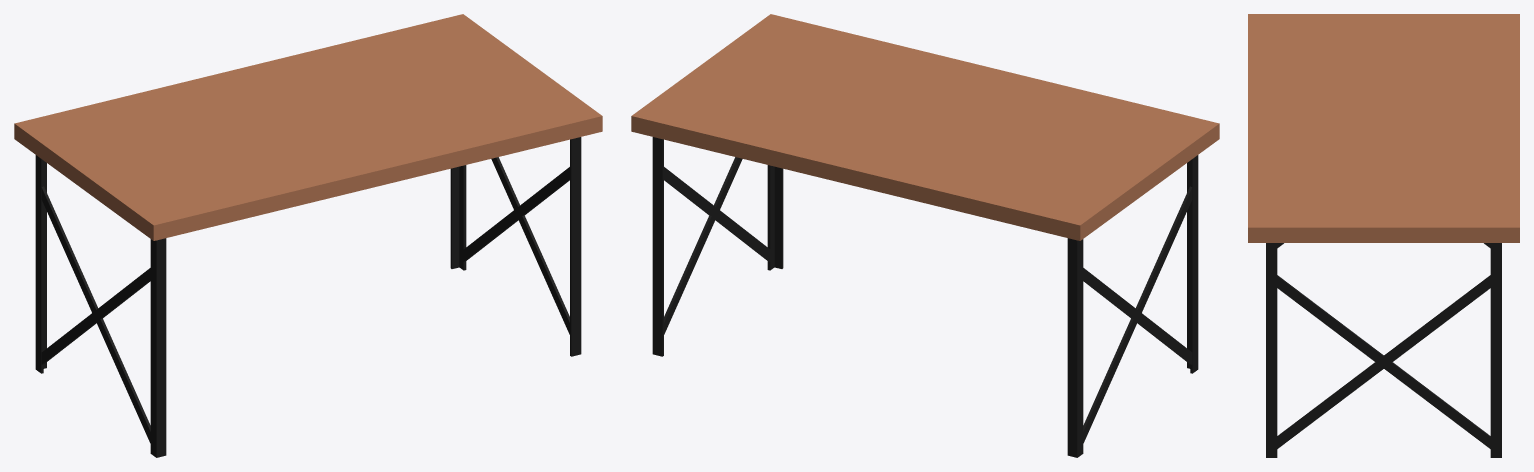
Rendered from computer_table.glb.
3 renders of one model, left to right at view 1: azimuth 30°, elevation 25°; view 2: azimuth 150°, elevation 25°; view 3: azimuth 270°, elevation 25°, orthographic. The views are drawn at different scales.
Bounding box in the file's own units: 45 × 23.2 × 24.2.
1 material, 1 textured.
